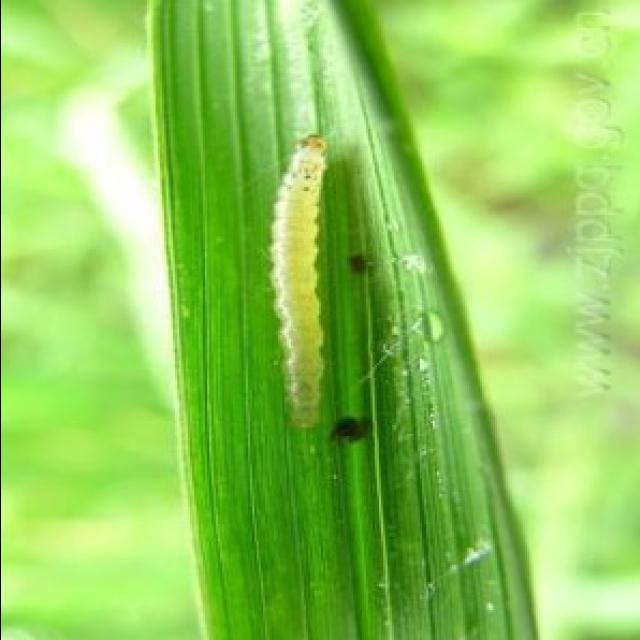rice leaf roller: (268, 137, 324, 427)
